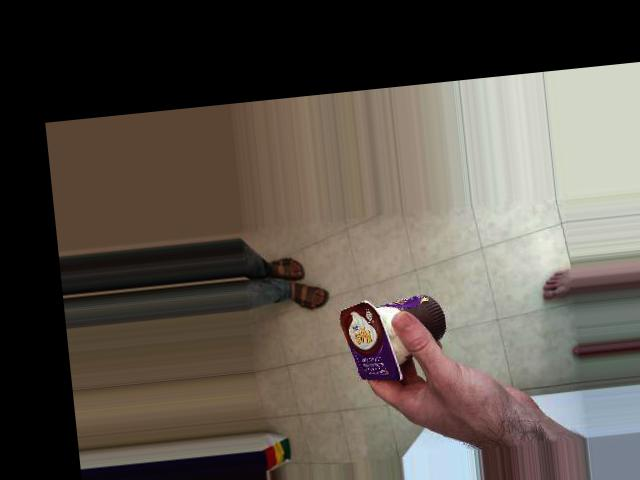milky: (326, 257, 430, 379)
